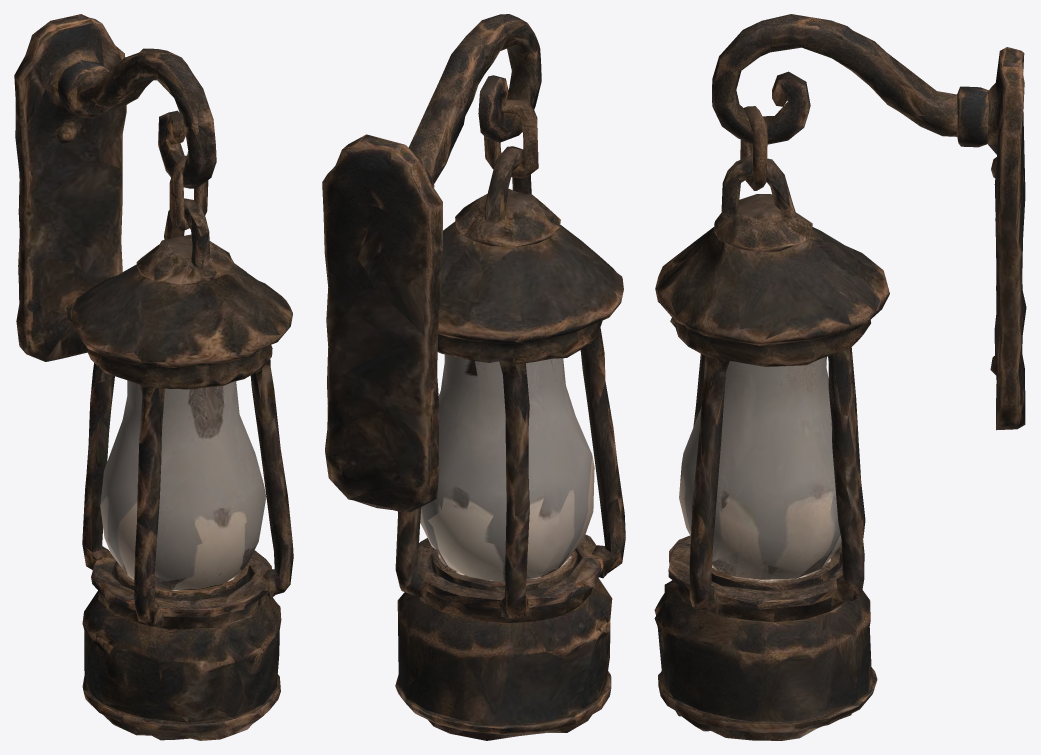
Rendered from up_wall_lantern.glb.
3 renders of one model, left to right at view 1: azimuth 30°, elevation 25°; view 2: azimuth 150°, elevation 25°; view 3: azimuth 270°, elevation 25°, orthographic. The views are drawn at different scales.
Visible parts, largest first — view 1: up_wall_lantern; view 2: up_wall_lantern; view 3: up_wall_lantern.
Part boxes in pixels (x1,y1,x2,y2): up_wall_lantern: [14, 14, 293, 740]; up_wall_lantern: [322, 14, 625, 740]; up_wall_lantern: [654, 14, 1026, 740].
Bounding box in the file's own units: 0.1428 × 0.45 × 0.2199.
1 material, 1 textured.
